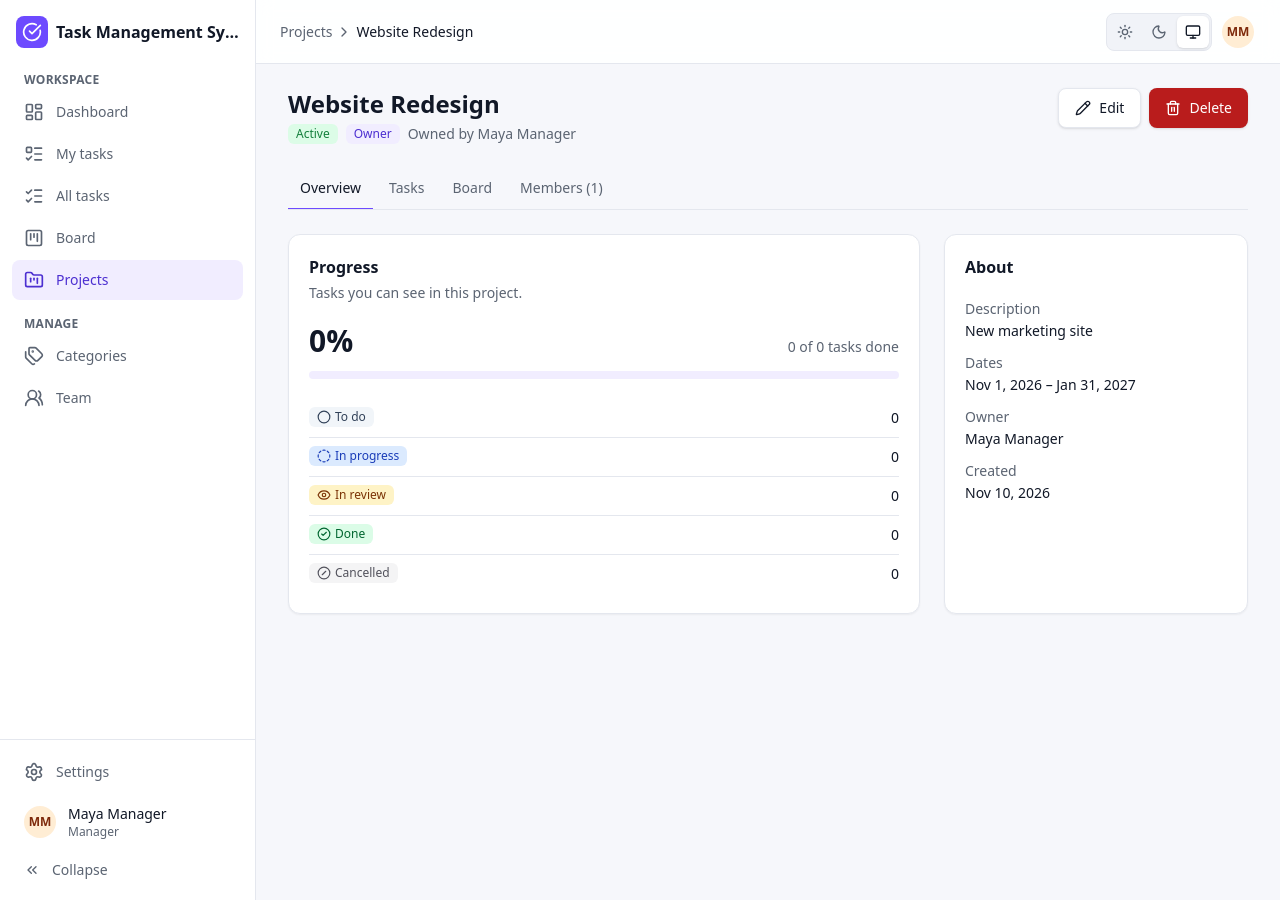
Scenario: Creating and editing projects › deletes after warning that the tasks go too, then returns to the list
Click the button "Delete".
click(1199, 108)  # box [1149,88,1248,128]
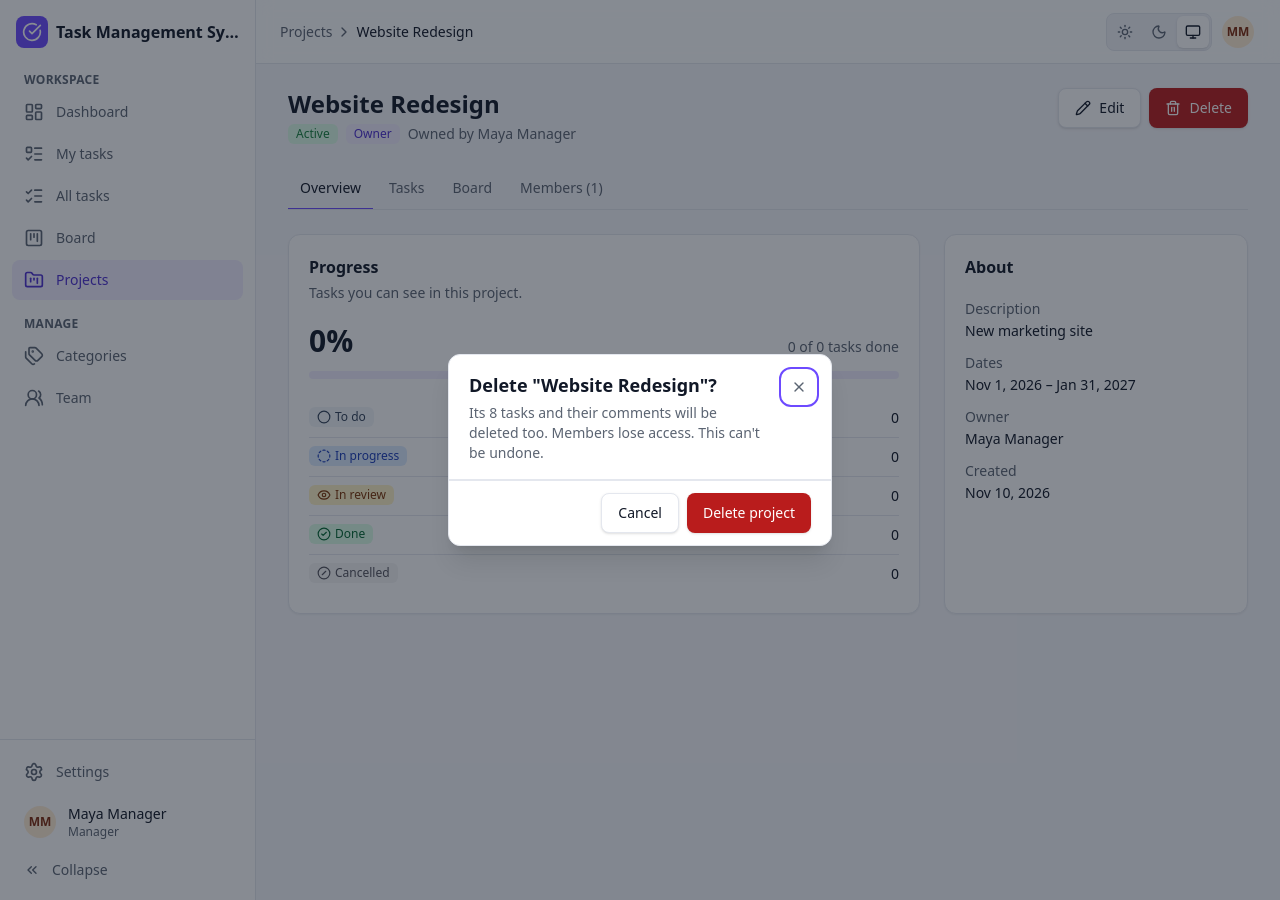
Result: the text "Its 8 tasks and their comments will be deleted too. Members lose access." is shown at [469,403,760,462]
Click the button "Delete project".
click(749, 513)  # box [687,493,811,533]
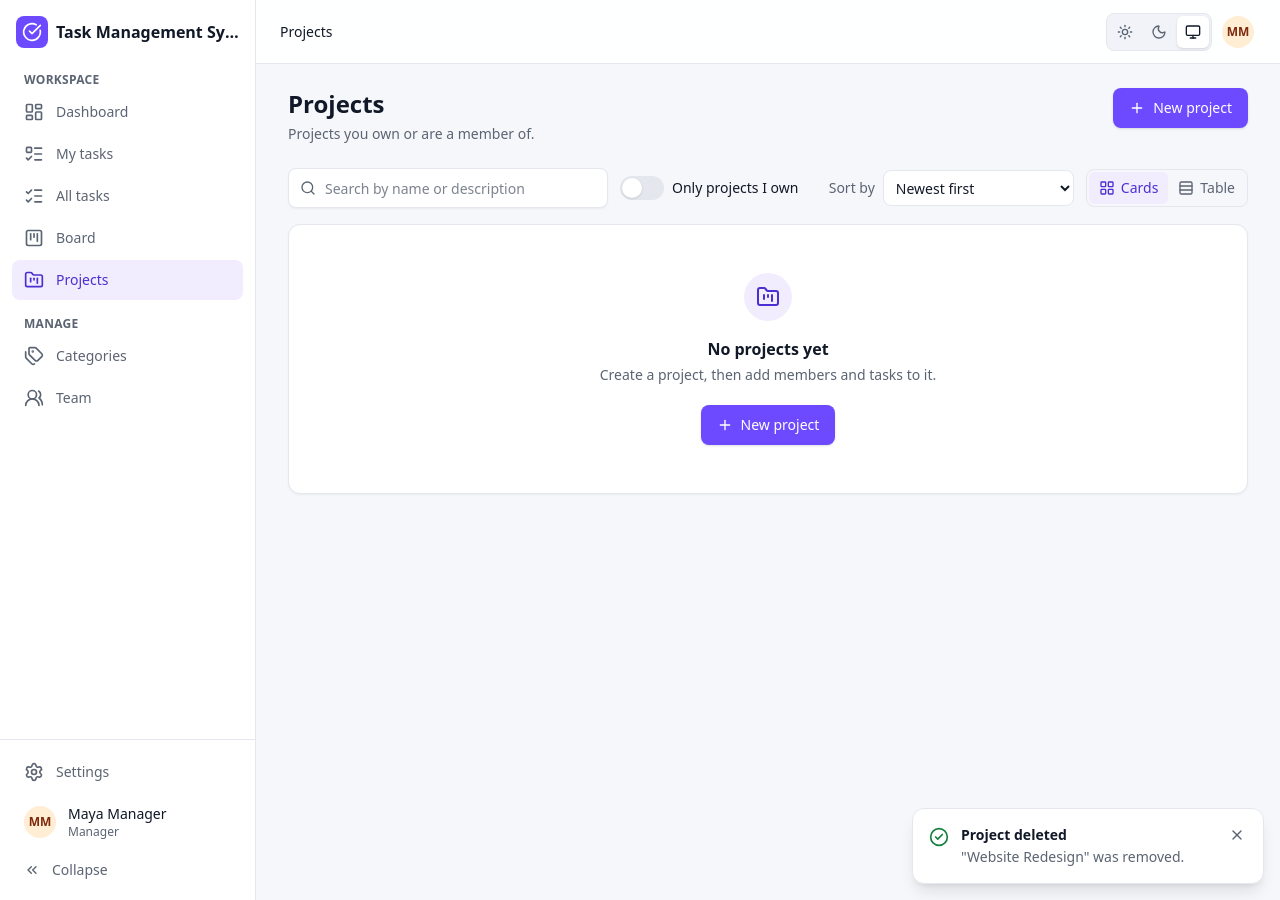
Result: the heading "Projects" is shown at [288,87,384,120]
